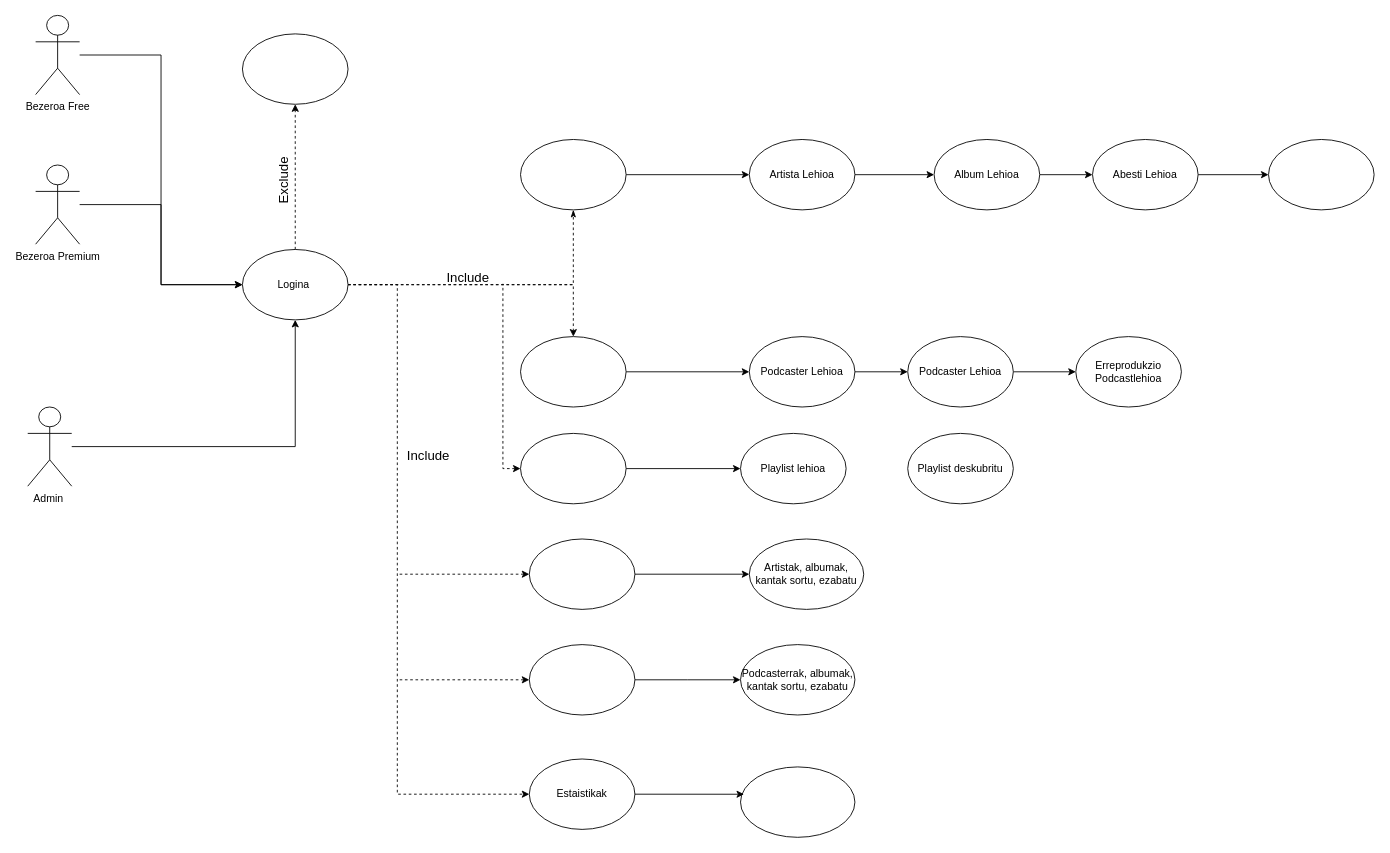
The diagram is 1390 pixels wide and 853 high, and some of its shapes have lost their labels. The centre of each missing label's shape, as x and y in pixels:
"Erregistratu" goes at [295,68].
"Erreprodukzio Abestiolehioa" goes at [1321,174].
"Kontsultak egin ahalgo dira" goes at [797,801].
"Musika deskubritu" goes at [573,174].
"Musika kudeatu" goes at [581,573].
"Nire Playlist" goes at [573,468].
"Podcast deskubritu" goes at [573,371].
"Podcast kudeatu" goes at [581,679].
